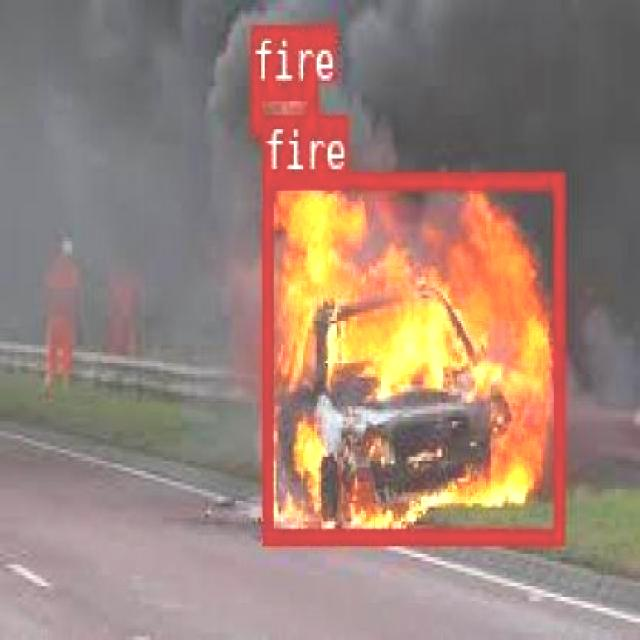fire: (260, 170, 562, 542), (250, 79, 316, 132)
